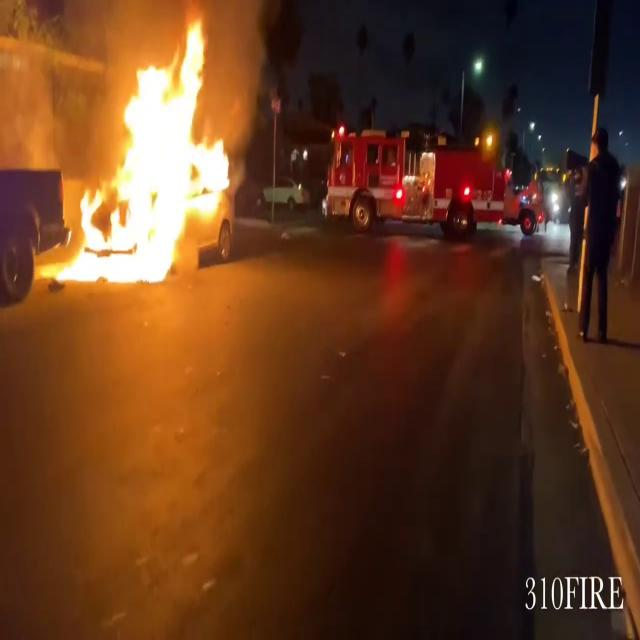Fire: (60, 9, 240, 290)
